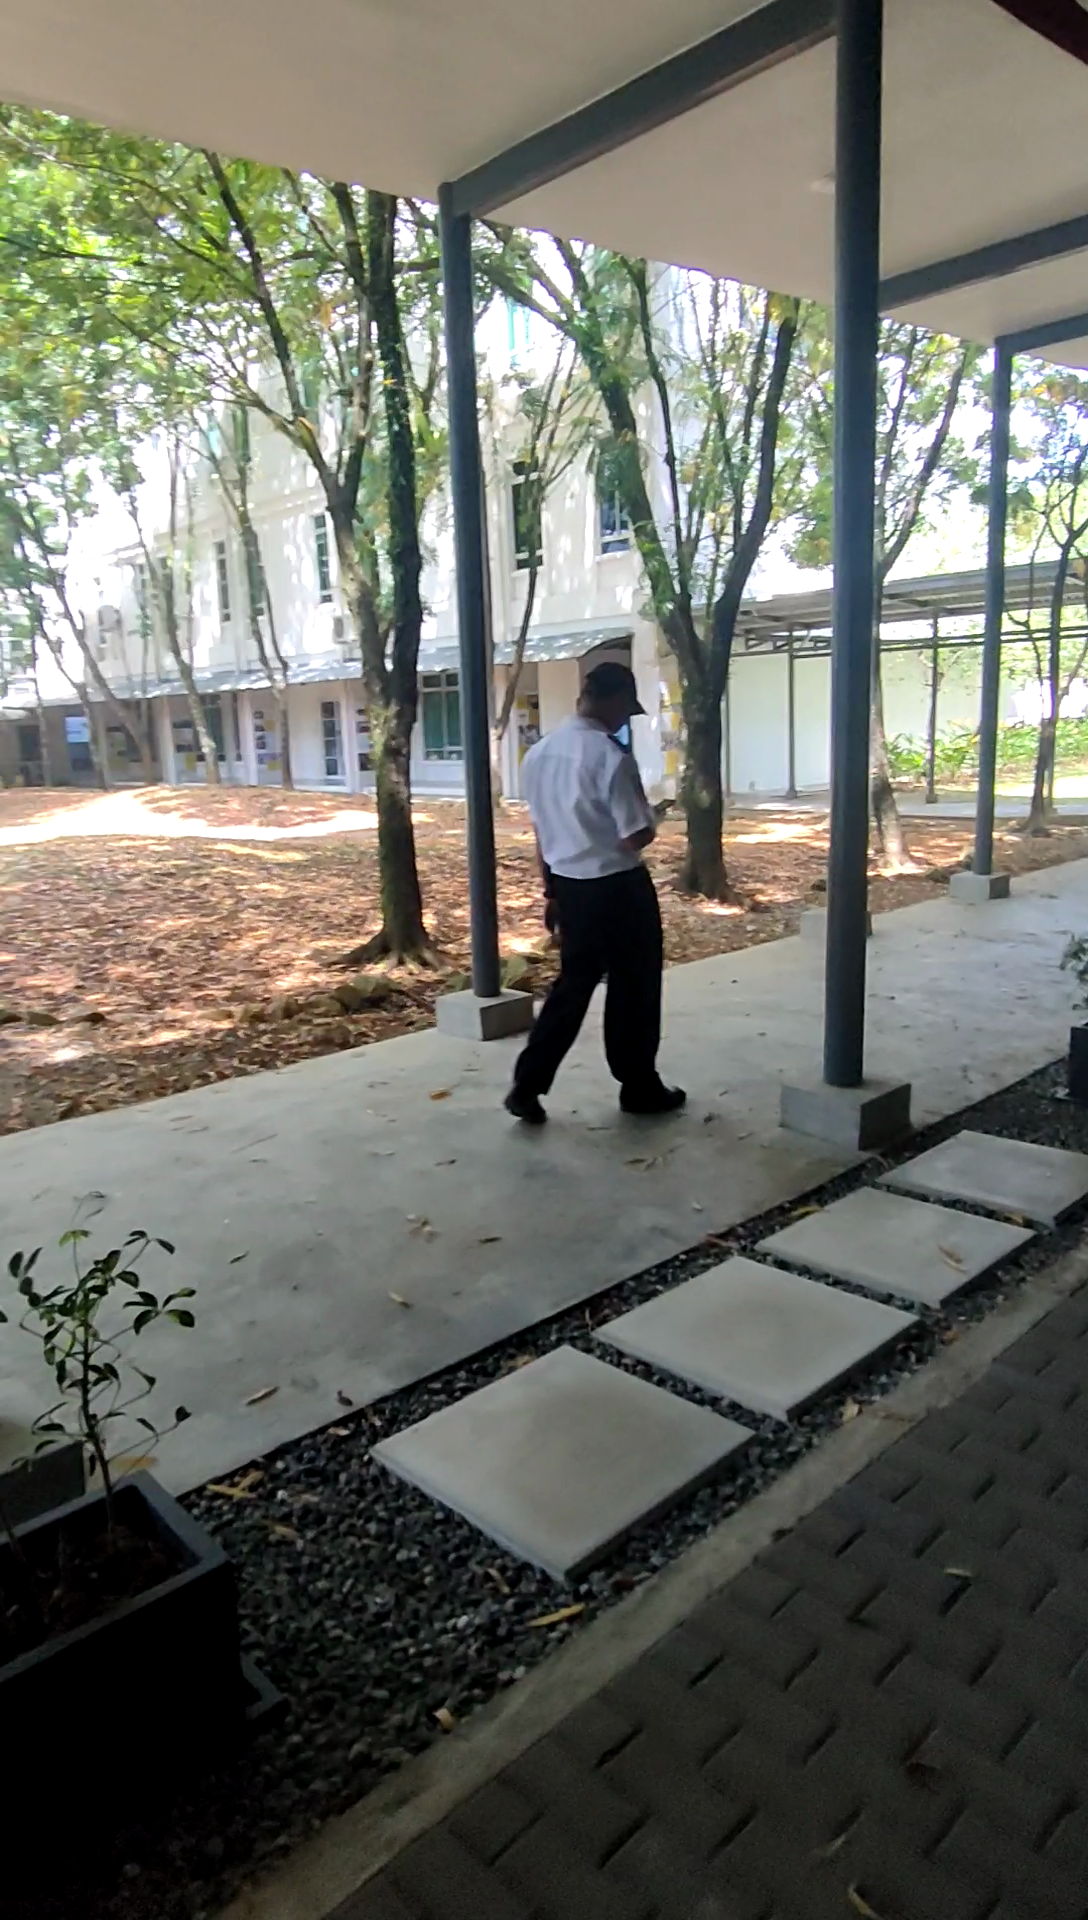walk: (506, 662, 688, 1125)
